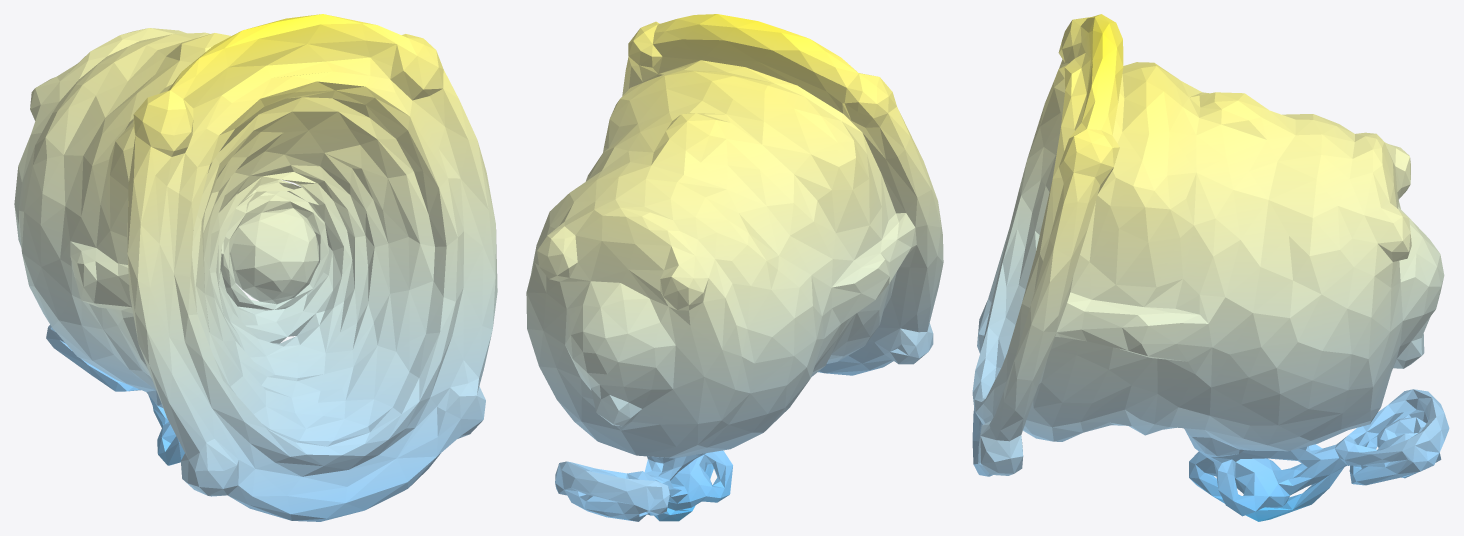
Rendered from 60_cyb_laser_gradient_fish_scales_2920_2026_10_03_456f29.glb.
3 renders of one model, left to right at view 1: azimuth 30°, elevation 25°; view 2: azimuth 150°, elevation 25°; view 3: azimuth 270°, elevation 25°, orthographic. The views are drawn at different scales.
Parts seen in each view (by area): view 1: geometry_0; view 2: geometry_0; view 3: geometry_0.
Boxes of the visible parts, <box> form: geometry_0: <box>14,14,497,521</box>; geometry_0: <box>526,14,943,521</box>; geometry_0: <box>972,14,1449,521</box>.
Bounding box in the file's own units: 0.7281 × 0.9939 × 0.8867.
